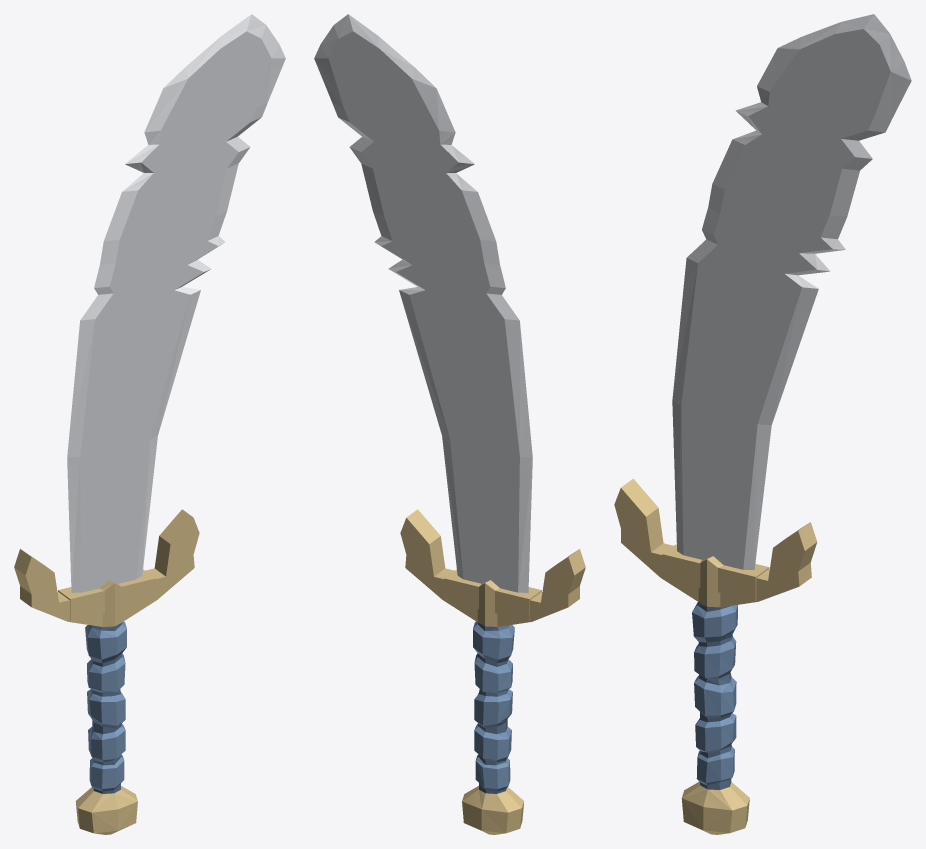
Rendered from espada_alfanje.glb.
3 renders of one model, left to right at view 1: azimuth 30°, elevation 25°; view 2: azimuth 150°, elevation 25°; view 3: azimuth 330°, elevation 25°, orthographic. The views are drawn at different scales.
Visible parts, largest first — view 1: espada_alfanje; view 2: espada_alfanje; view 3: espada_alfanje.
Part boxes in pixels (left/top/right/bottom): espada_alfanje: left=14, top=14, right=285, bottom=834; espada_alfanje: left=314, top=14, right=585, bottom=834; espada_alfanje: left=614, top=14, right=911, bottom=834.
Bounding box in the file's own units: 1.75 × 4.91 × 0.2611.
